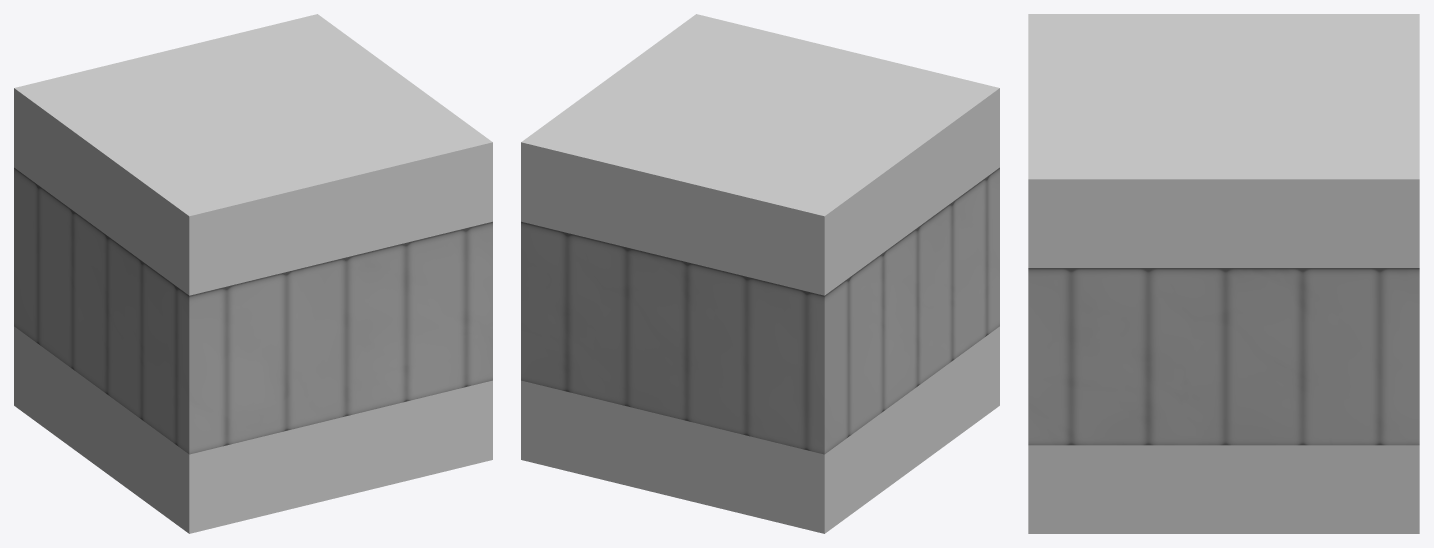
File: Trim_TempleCube01.fbx
3 views of the same model, side by side, from view 1: azimuth 30°, elevation 25°; view 2: azimuth 150°, elevation 25°; view 3: azimuth 270°, elevation 25° (orthographic). The views are drawn at different scales.
Parts seen in each view (by area): view 1: Ramp.001; view 2: Ramp.001; view 3: Ramp.001.
Part boxes in pixels (x1,y1,x2,y2): Ramp.001: (14,14,492,533); Ramp.001: (521,14,999,533); Ramp.001: (1028,14,1419,533).
Bounding box in the file's own units: 200 × 200 × 200.
